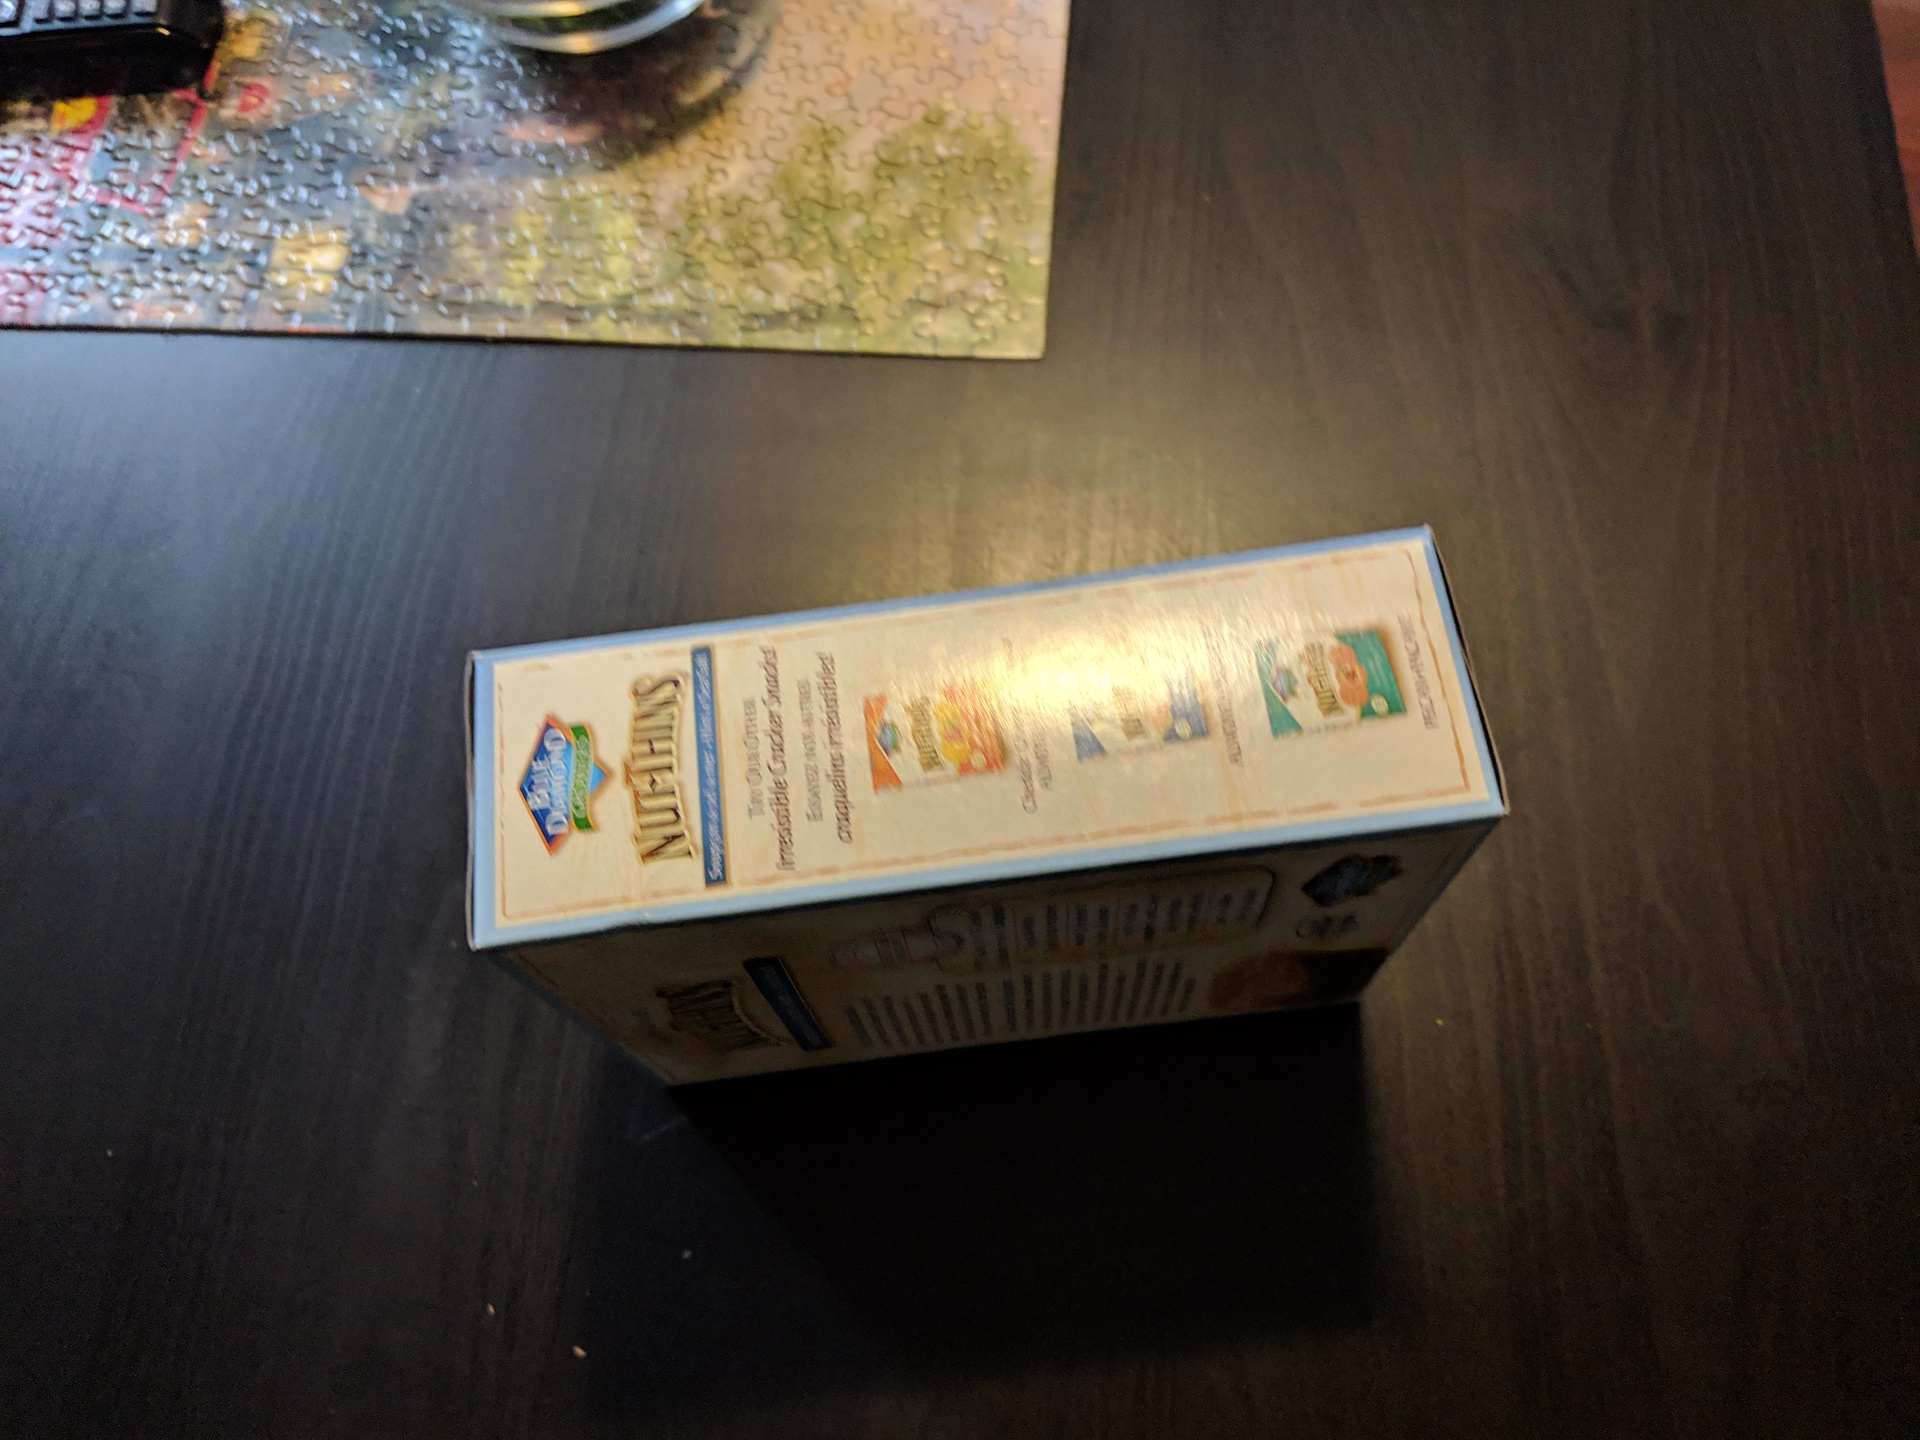blue_diamond_nut_thins_almond_seasalt: (476, 582, 1503, 1027)
